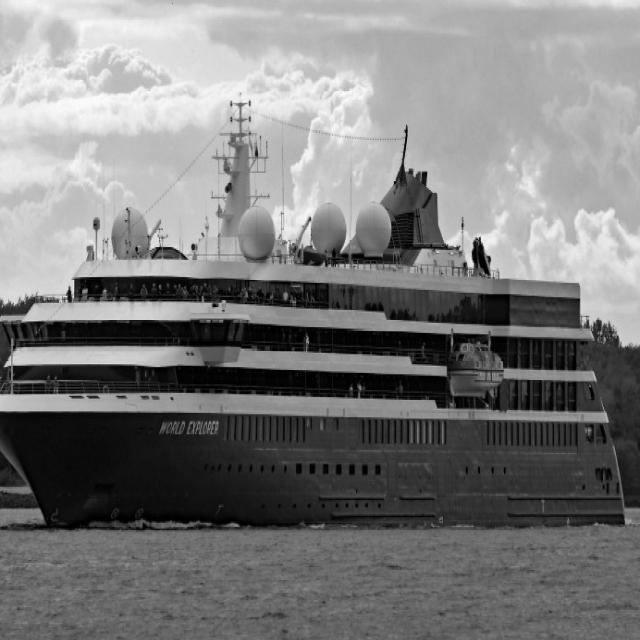cruises: (1, 96, 633, 533)
